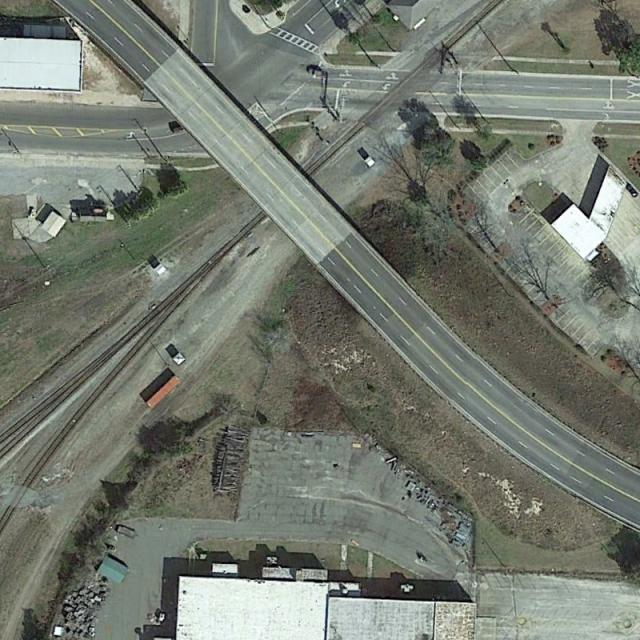vehicle: (306, 66, 324, 78), (170, 127, 183, 134)
